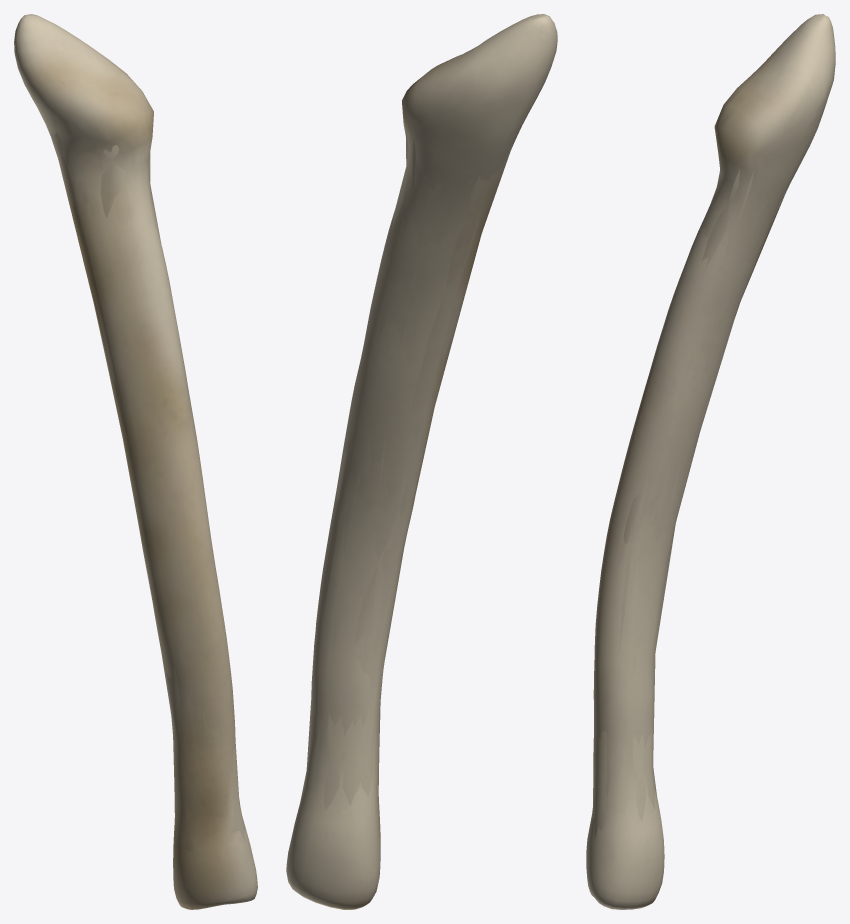
File: L metatarsi quintum.fbx
3 renders of one model, left to right at view 1: azimuth 30°, elevation 25°; view 2: azimuth 210°, elevation 25°; view 3: azimuth 270°, elevation 25°, orthographic. The views are drawn at different scales.
Visible parts, largest first — view 1: L metatarsi quintum high, L metatarsi quintum, L metatarsi quintum low; view 2: L metatarsi quintum high, L metatarsi quintum low, L metatarsi quintum; view 3: L metatarsi quintum high, L metatarsi quintum low, L metatarsi quintum.
Boxes of the visible parts, left/top/right/bottom form: L metatarsi quintum high: left=14, top=14, right=257, bottom=909; L metatarsi quintum: left=39, top=19, right=232, bottom=852; L metatarsi quintum low: left=49, top=55, right=245, bottom=842; L metatarsi quintum high: left=286, top=14, right=557, bottom=909; L metatarsi quintum low: left=300, top=55, right=514, bottom=811; L metatarsi quintum: left=308, top=19, right=527, bottom=814; L metatarsi quintum high: left=586, top=14, right=835, bottom=909; L metatarsi quintum low: left=591, top=76, right=791, bottom=837; L metatarsi quintum: left=590, top=23, right=815, bottom=822.
Size of the model in its own units: 3.22 by 18.37 by 4.9.
